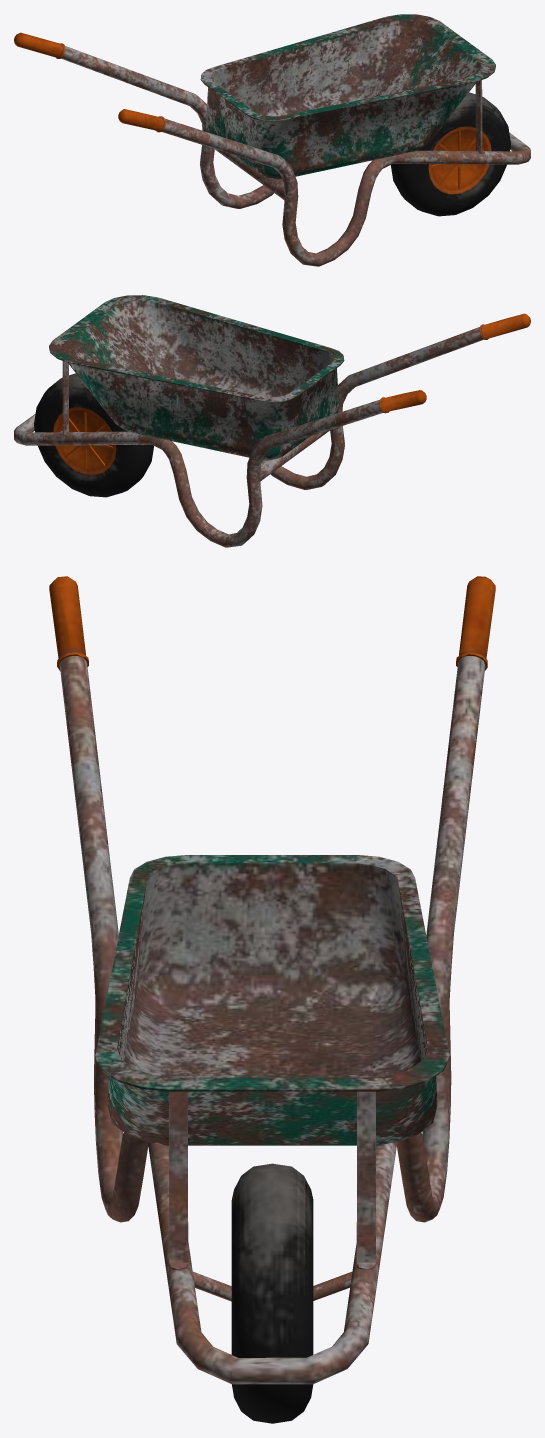
The model's file is rusty_wheelbarrow.glb.
3 views of the same model, one above another, from view 1: azimuth 30°, elevation 25°; view 2: azimuth 150°, elevation 25°; view 3: azimuth 270°, elevation 25° (orthographic). The views are drawn at different scales.
Parts seen in each view (by area): view 1: rusty_wheelbarrow; view 2: rusty_wheelbarrow; view 3: rusty_wheelbarrow.
Part boxes in pixels (<box>): rusty_wheelbarrow: <box>14,14,530,266</box>; rusty_wheelbarrow: <box>14,295,530,547</box>; rusty_wheelbarrow: <box>49,576,495,1423</box>.
Size of the model in its own units: 1.5 by 0.7379 by 0.6392.
1 material, 1 textured.
